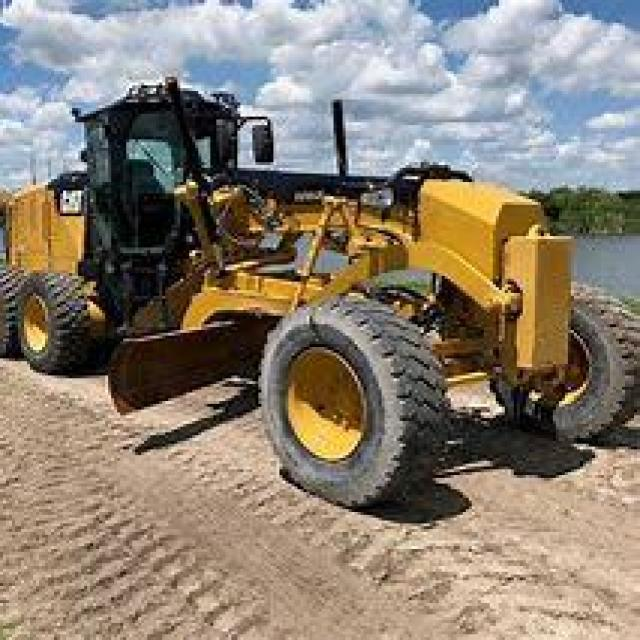buldozerpayloadergrader: (0, 66, 637, 526)
